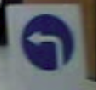left: (21, 14, 76, 71)
